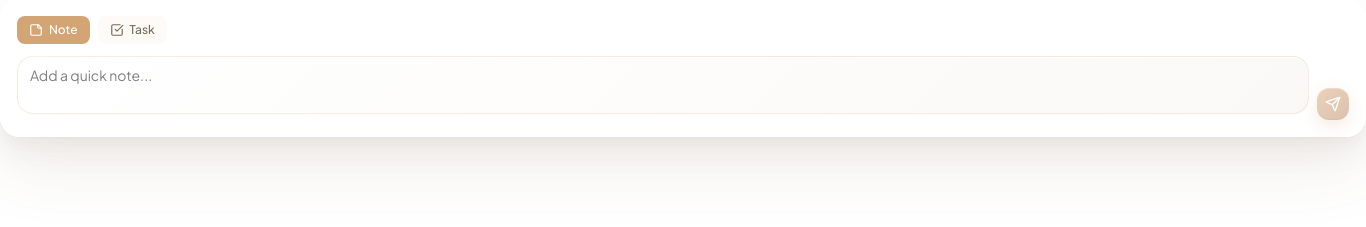
StickyNote › clicking Task switches to task mode (shows due date input)
Expected: the field with placeholder "Due date (optional)" is not shown
Click the button "Task".
click(132, 30)  # box left=98, top=16, right=167, bottom=44
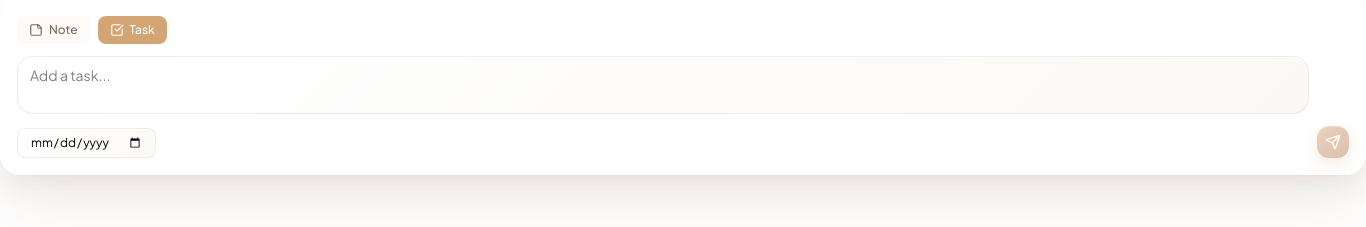
Expected: the text box with placeholder "Add a task..." is shown, left=17, top=56, right=1309, bottom=114
Expected: the date field with placeholder "Due date (optional)" is shown, left=17, top=128, right=156, bottom=158
